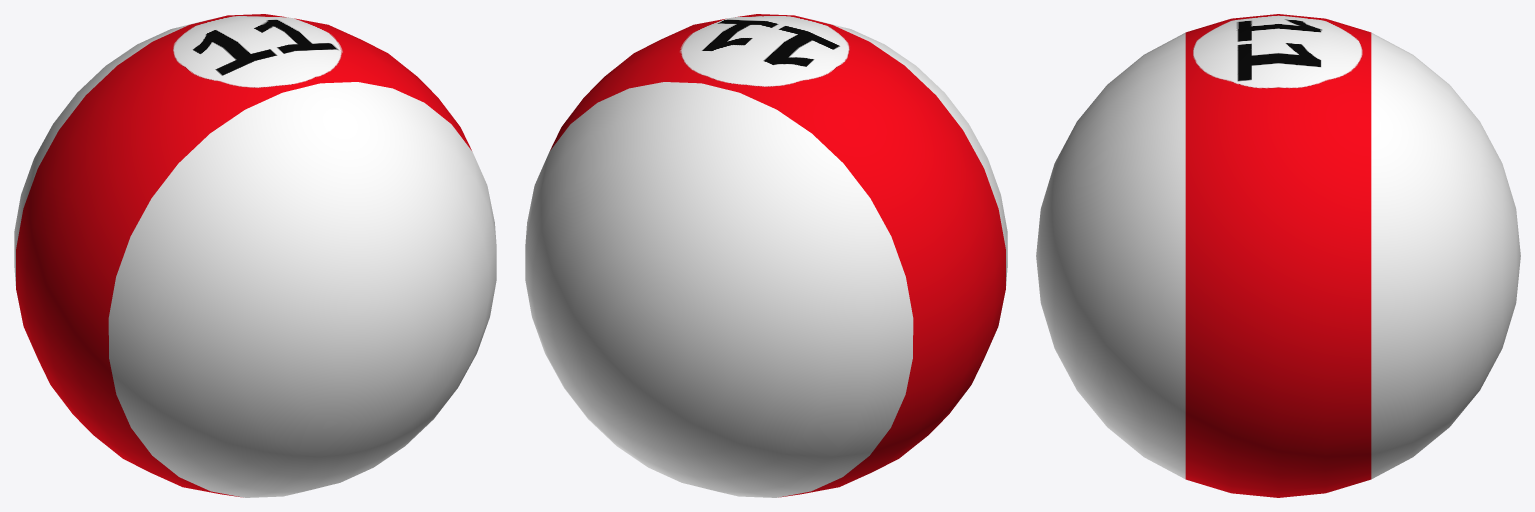
File: 11Ball.glb
The picture shows the model from 3 angles, left to right: view 1: azimuth 30°, elevation 25°; view 2: azimuth 150°, elevation 25°; view 3: azimuth 270°, elevation 25°; orthographic projection.
Visible parts, largest first — view 1: SphereStriped; view 2: SphereStriped; view 3: SphereStriped.
Boxes of the visible parts, box(x1,y1,x2,y2) form: SphereStriped: box(14, 14, 496, 497); SphereStriped: box(525, 14, 1007, 497); SphereStriped: box(1036, 14, 1520, 497).
Size of the model in its own units: 0.1991 by 0.1991 by 0.2.
Materials: 1 (1 with a texture image).
